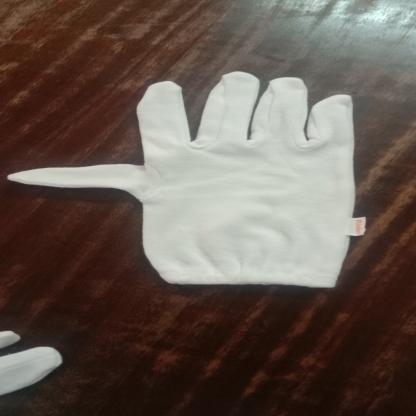gloved_hand: (1, 66, 369, 290)
